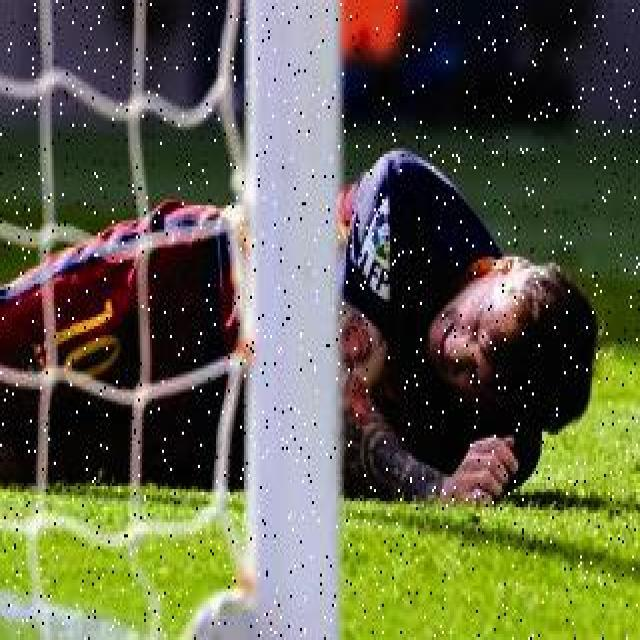fall: (12, 142, 594, 510)
